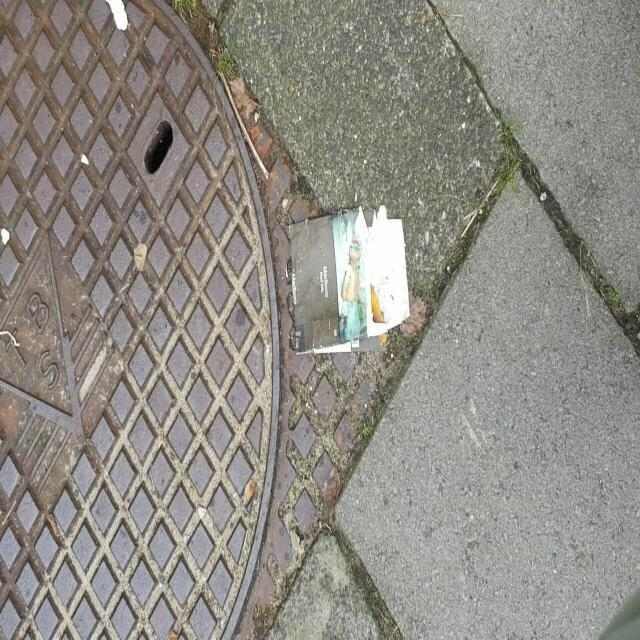Paper: (288, 202, 412, 358)
